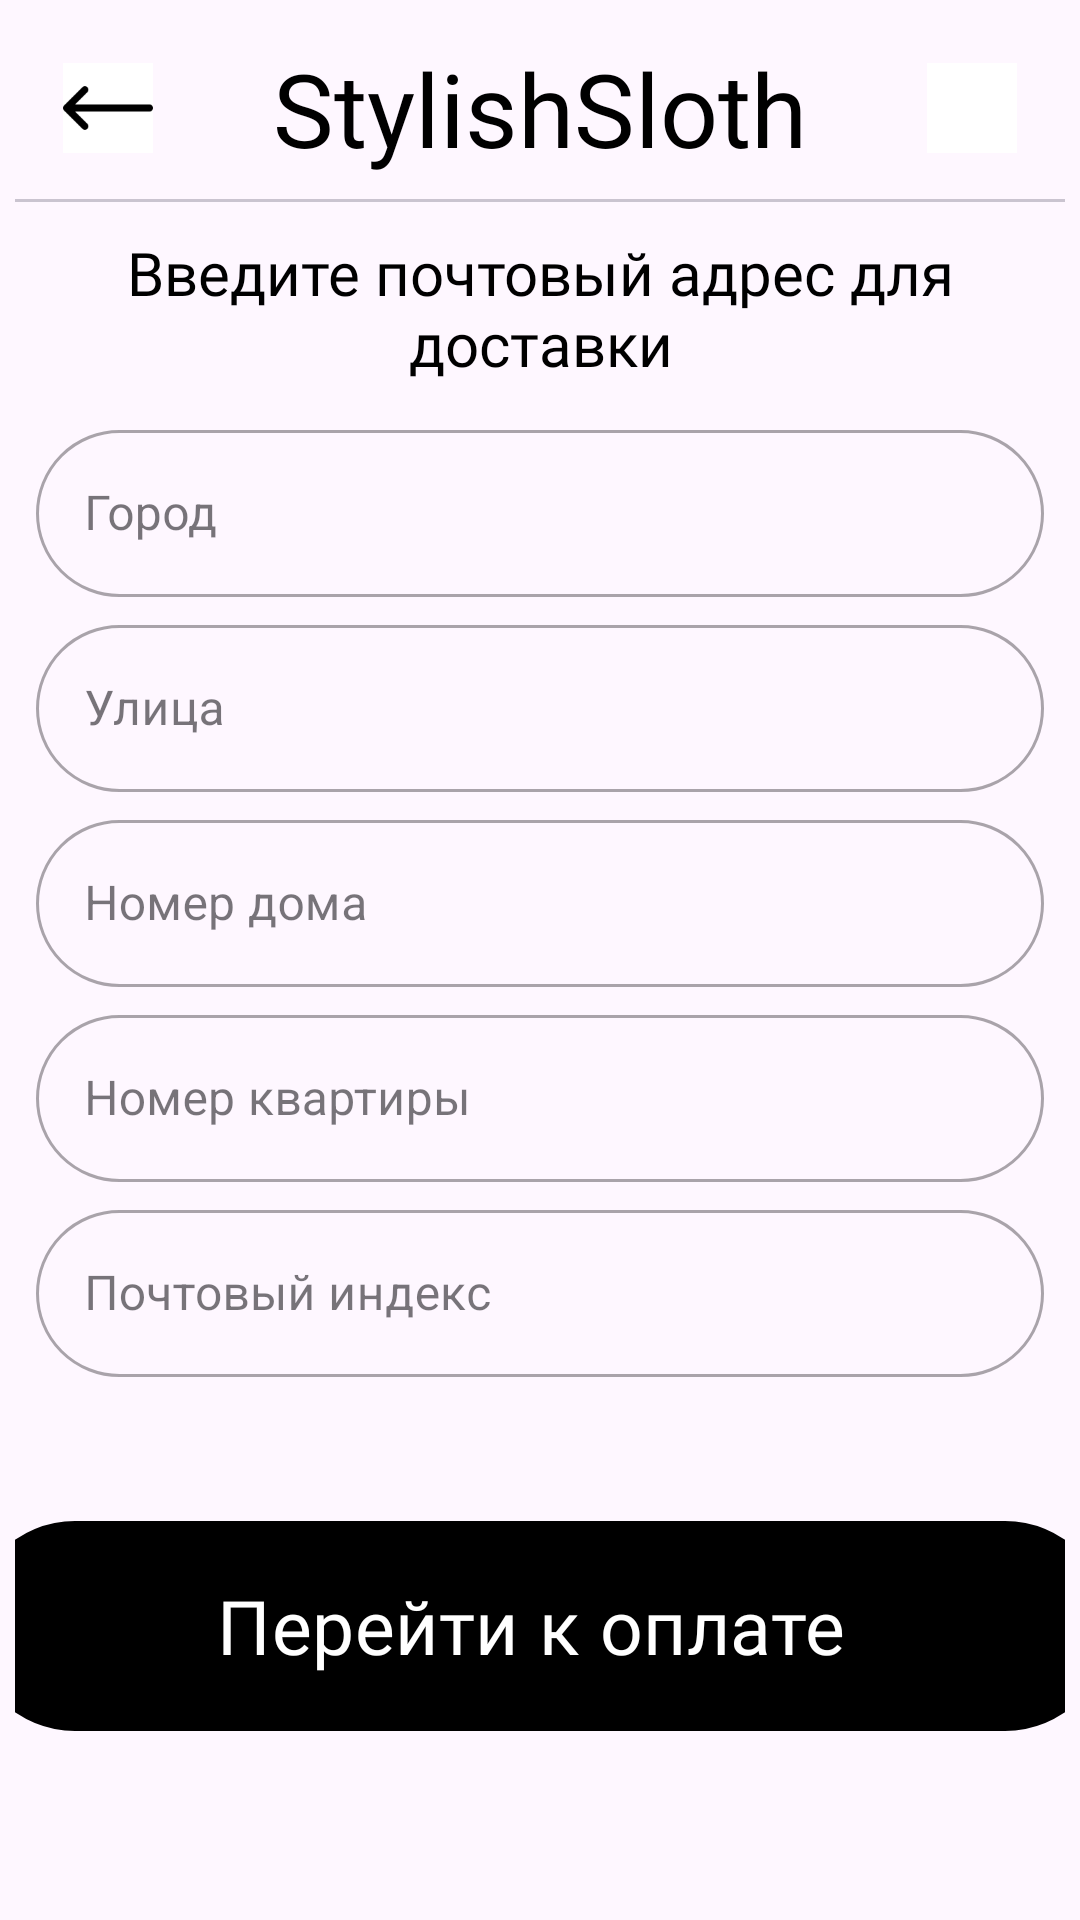

Where to tap for icons on this 1080 × 1920 app screen, as [x,y]:
left arrow: [108,108]
